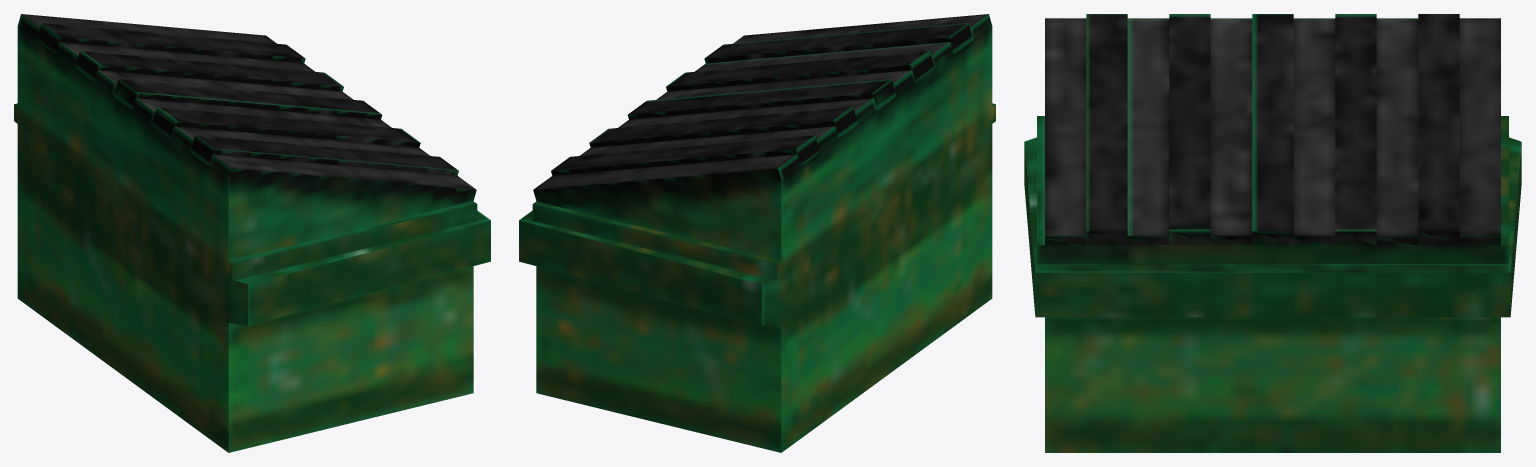
The model's file is depositoLixoZefir.fbx.
3 renders of one model, left to right at view 1: azimuth 30°, elevation 25°; view 2: azimuth 150°, elevation 25°; view 3: azimuth 270°, elevation 25°, orthographic. The views are drawn at different scales.
Parts seen in each view (by area): view 1: Cube.004; view 2: Cube.004; view 3: Cube.004.
Part boxes in pixels (box(x1,y1,x2,y2)): Cube.004: box(14, 14, 490, 452); Cube.004: box(519, 14, 995, 452); Cube.004: box(1024, 14, 1521, 452).
Size of the model in its own units: 195 by 209 by 302.
Materials: 1 (1 with a texture image).
